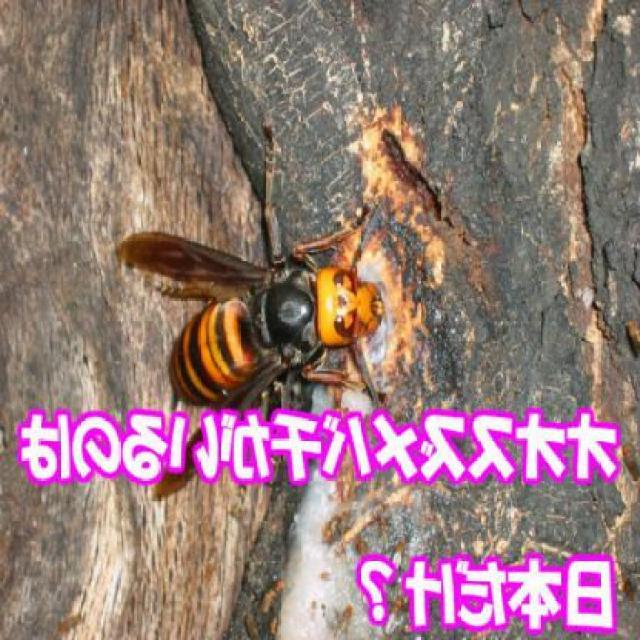Wasp: (106, 168, 395, 410)
